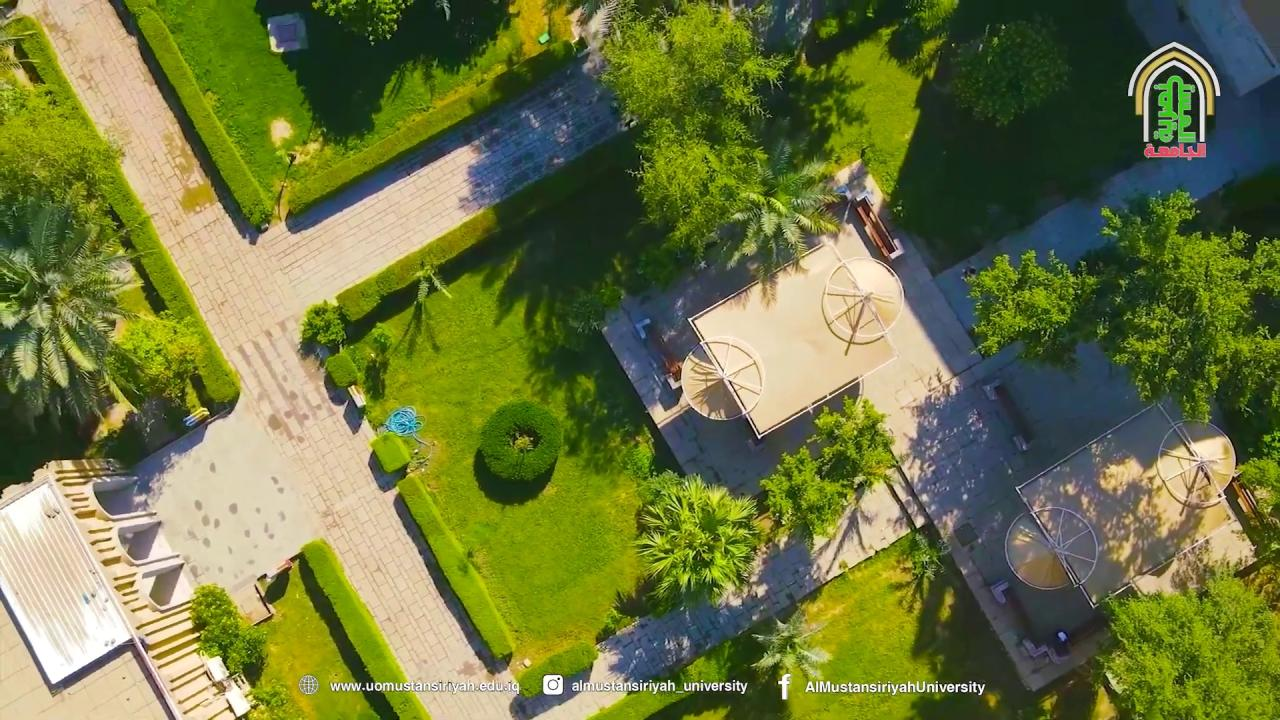tree: (592, 0, 844, 272), (1094, 186, 1279, 427), (0, 188, 157, 424), (1086, 569, 1278, 718), (758, 392, 900, 553), (491, 221, 627, 366), (630, 469, 764, 616), (960, 246, 1102, 374), (949, 15, 1072, 127), (121, 308, 212, 424), (758, 444, 854, 552), (806, 392, 900, 495), (188, 582, 268, 691), (478, 397, 563, 483), (749, 605, 832, 689), (390, 250, 452, 357), (310, 0, 417, 47), (892, 534, 945, 611), (564, 276, 624, 336), (298, 296, 349, 354), (242, 675, 307, 719), (406, 250, 451, 307), (616, 423, 656, 482), (323, 350, 360, 389)
